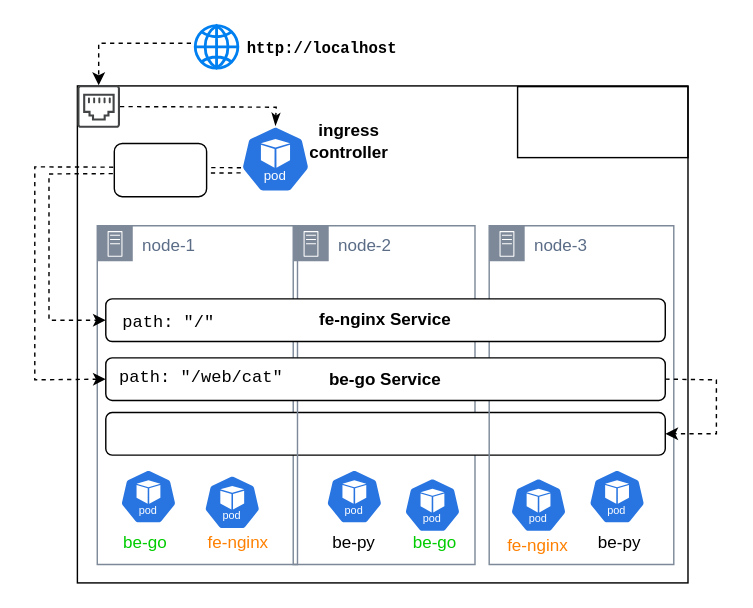
Some shapes in this 753 by 608 pixel diagram are drawn without their labels. The centre of each missing label's shape, as x and y in pixels:
be-py Service: the point at 384,433
ingress (rules): the point at 160,169
NAT Network (VirtualBox) Gateway 10.0.2.1: the point at 602,121
